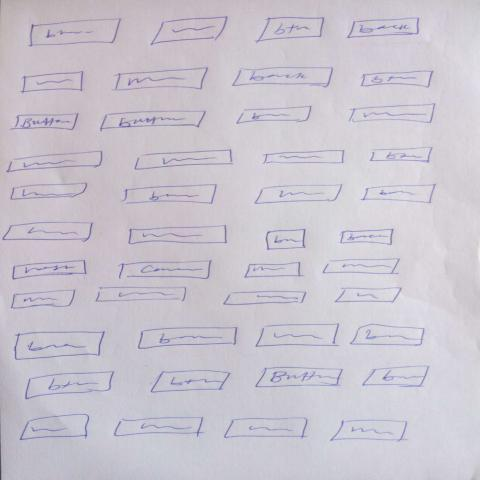Radio Button: (21, 368, 119, 402), (28, 18, 124, 49), (11, 332, 108, 362), (133, 325, 240, 352), (252, 365, 345, 391), (100, 110, 207, 132), (148, 368, 230, 395), (232, 67, 335, 88), (117, 260, 213, 282), (119, 184, 219, 205), (346, 322, 428, 347), (254, 16, 327, 44), (348, 103, 438, 125), (112, 417, 206, 437), (10, 258, 90, 281), (361, 365, 433, 390), (361, 184, 437, 205), (347, 18, 420, 39), (237, 105, 313, 125), (11, 113, 81, 132), (370, 147, 435, 165), (339, 228, 397, 248), (265, 228, 313, 250)
